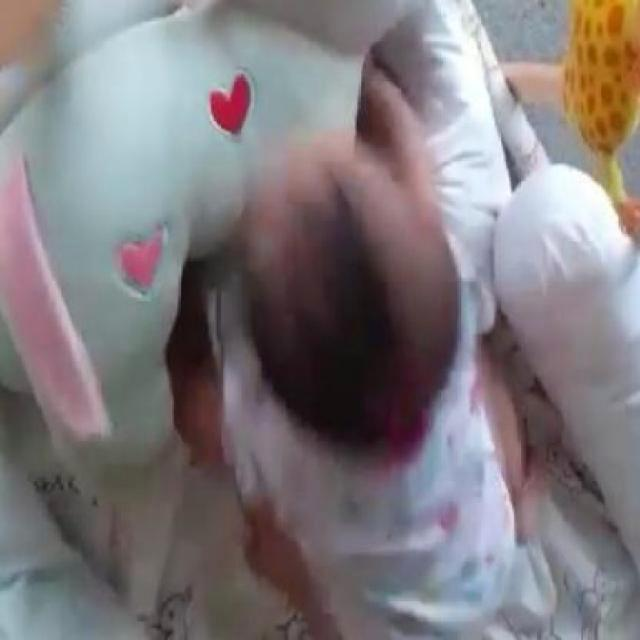child: (166, 71, 544, 639)
